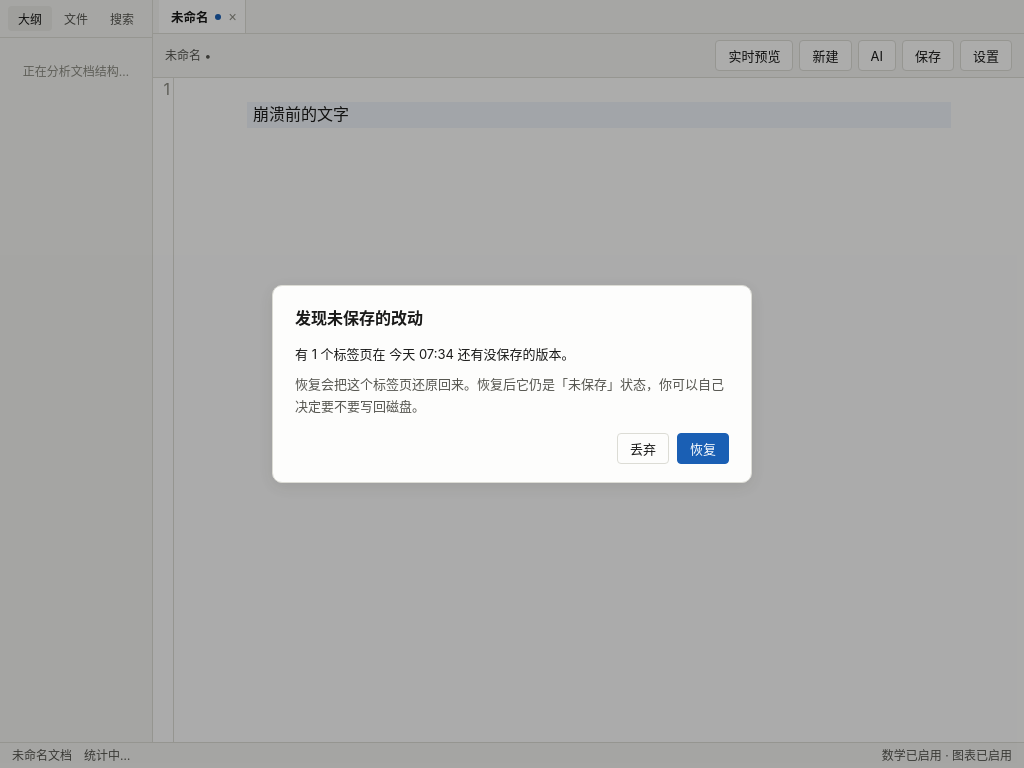
Test case: 应用交互 › 丢弃未保存的改动后不再提示
Click the button "丢弃".
click(643, 449)  # box 617,433 -> 669,464
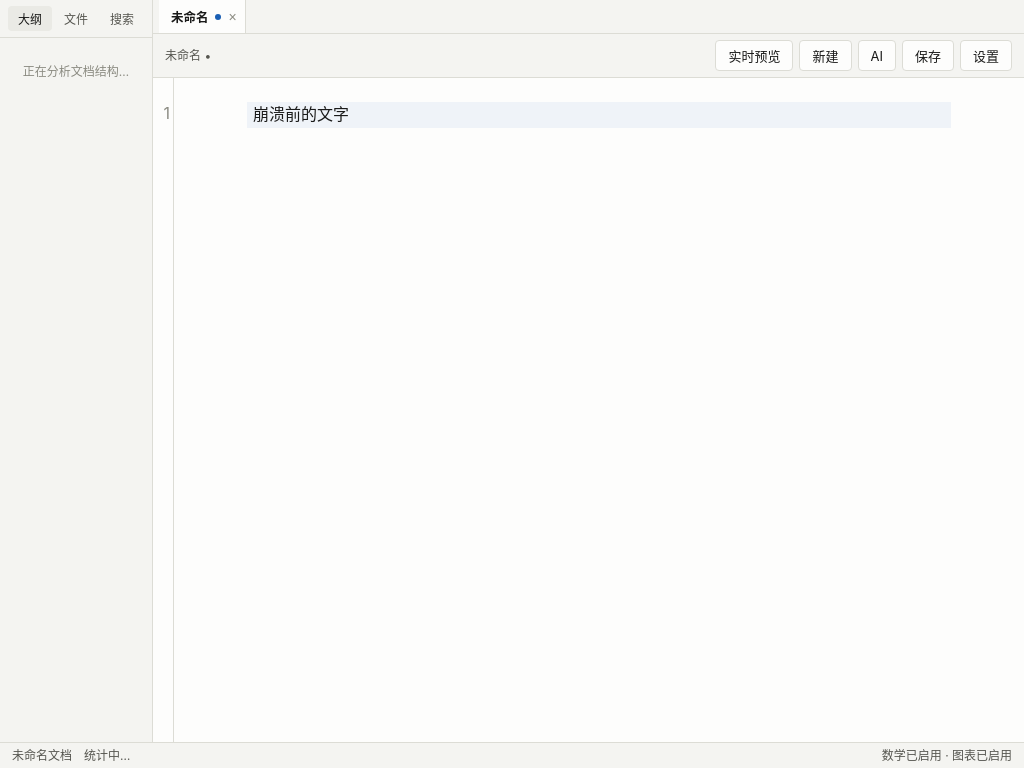
expect the dialog "恢复未保存的改动" is gone: met
